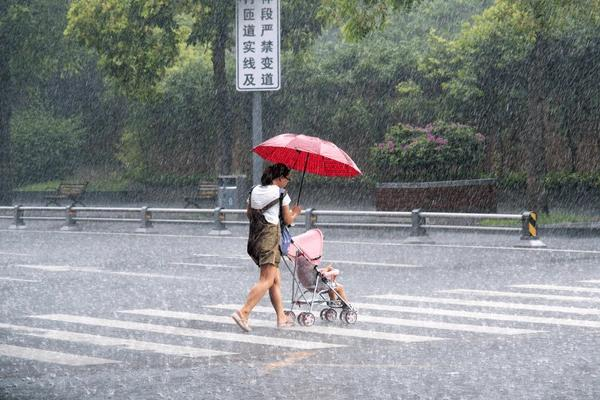pedestrian: (232, 155, 308, 341)
traffic sign: (233, 1, 287, 91)
